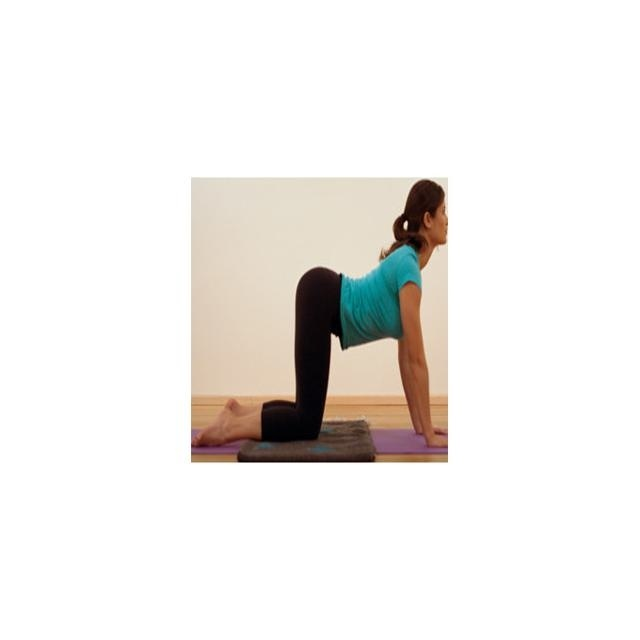Cow_Pose: (191, 180, 449, 450)
